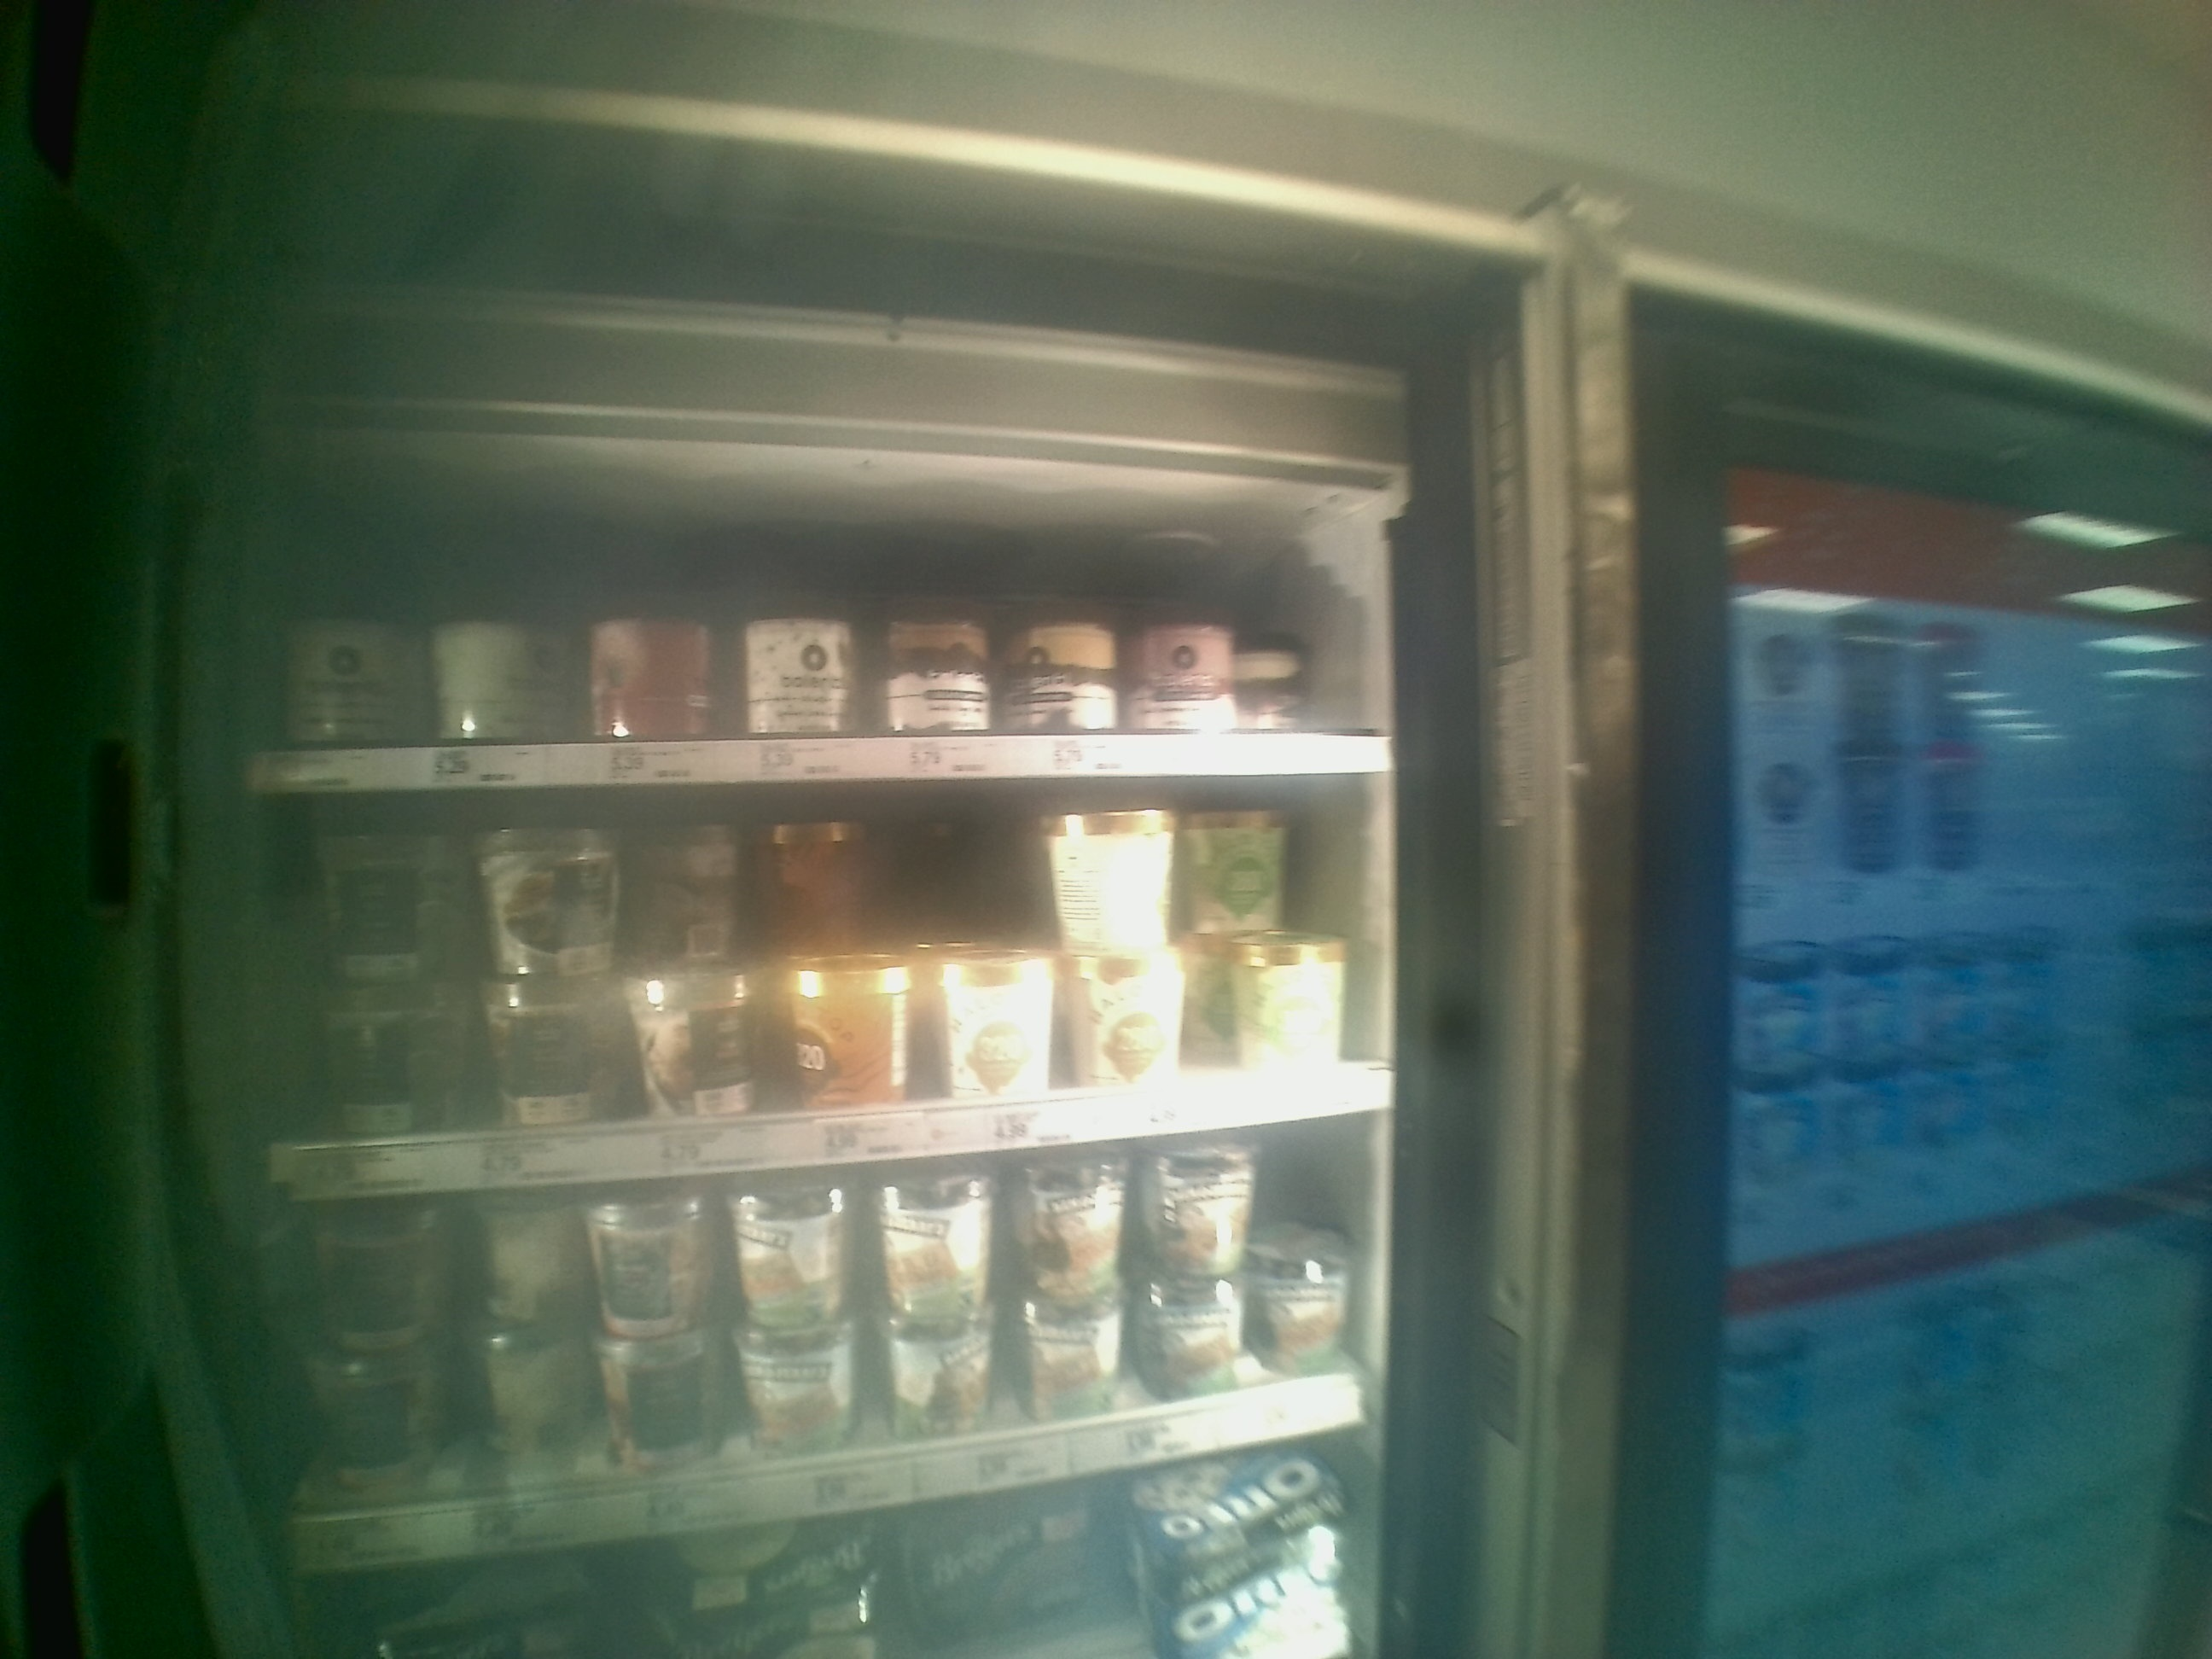ice-cream-shelf: (263, 786, 1376, 1169), (254, 504, 1364, 788)
